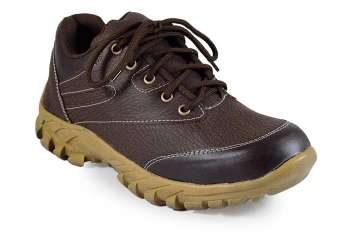Footwear: (32, 9, 321, 213)
